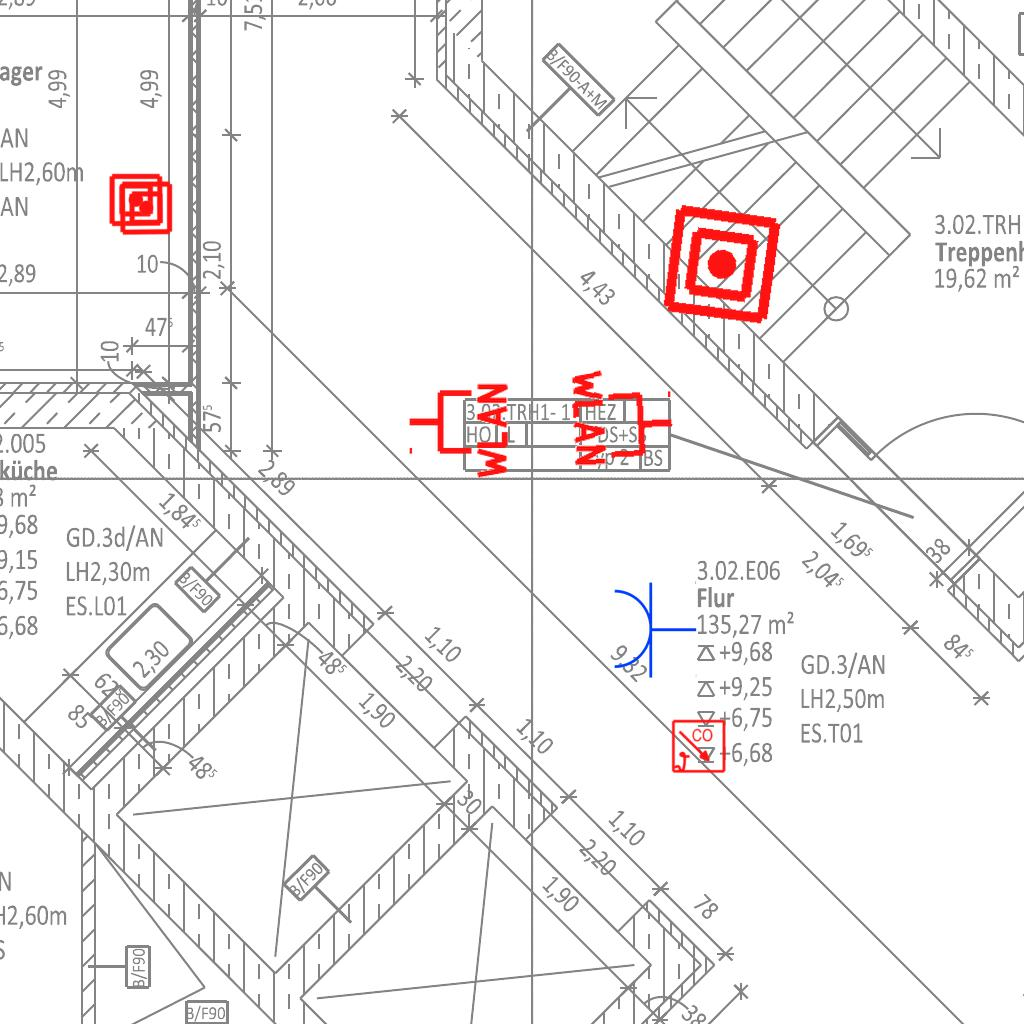NAM-Nichtautomatischer_Melder: (657, 200, 786, 329), (108, 172, 164, 228), (118, 180, 174, 236)
ROA_Rauchmelder_optisch_mit_Signalgeber_(Sockelsirene): (671, 719, 727, 775)
Schukosteckdose_einfach: (610, 579, 697, 679)
WLAN: (568, 361, 679, 471), (405, 379, 510, 483)
